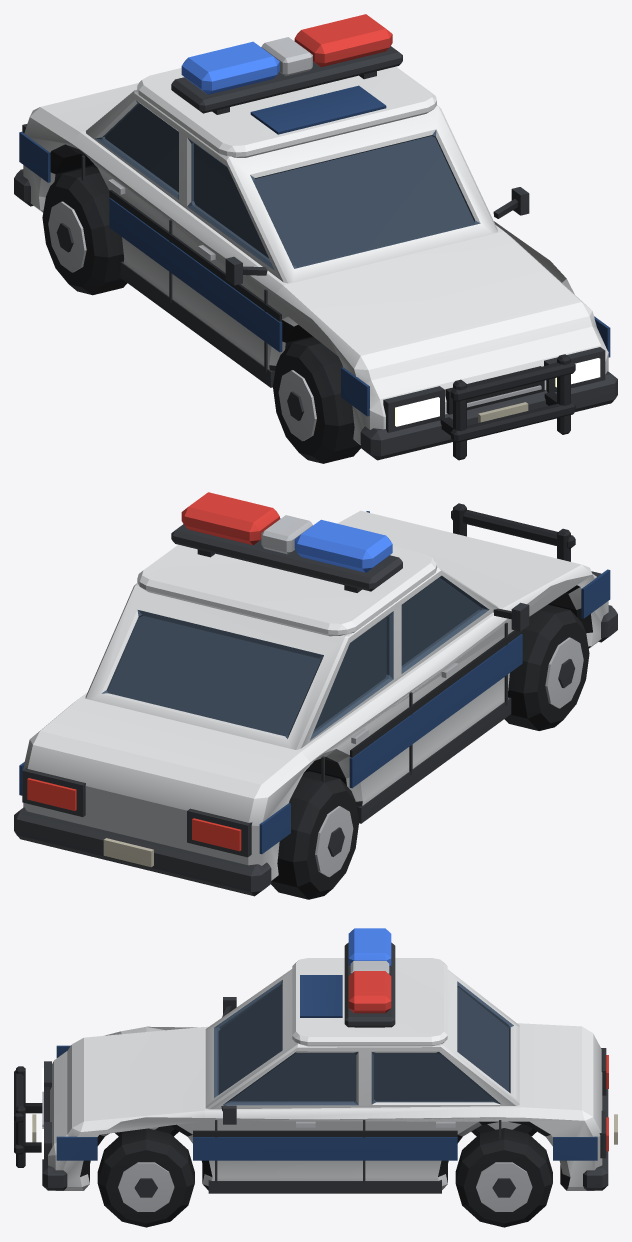
Rendered from police-car.glb.
3 renders of one model, top to bottom at view 1: azimuth 30°, elevation 25°; view 2: azimuth 150°, elevation 25°; view 3: azimuth 270°, elevation 25°, orthographic. The views are drawn at different scales.
Parts seen in each view (by area): view 1: PoliceCar; view 2: PoliceCar; view 3: PoliceCar.
Boxes of the visible parts, box(x1,y1,x2,y2) form: PoliceCar: box(14, 14, 617, 463); PoliceCar: box(14, 492, 617, 899); PoliceCar: box(14, 928, 617, 1227).
Bounding box in the file's own units: 1.36 × 1.24 × 3.11.
